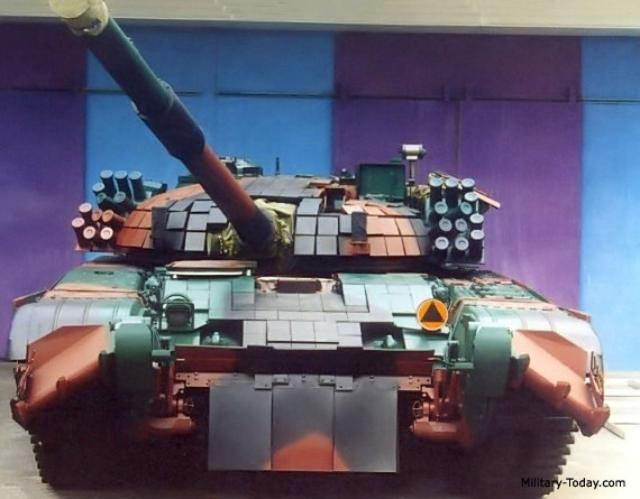tank: (16, 148, 594, 477)
